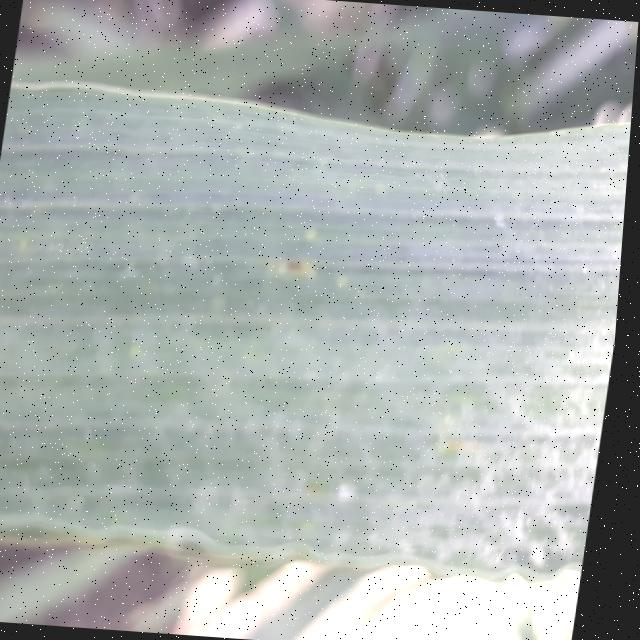orang_rust: (0, 65, 636, 620)
